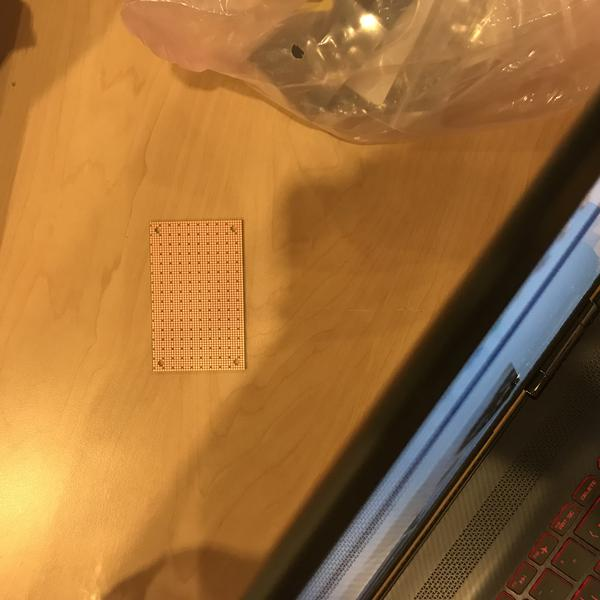board: (147, 218, 249, 373)
